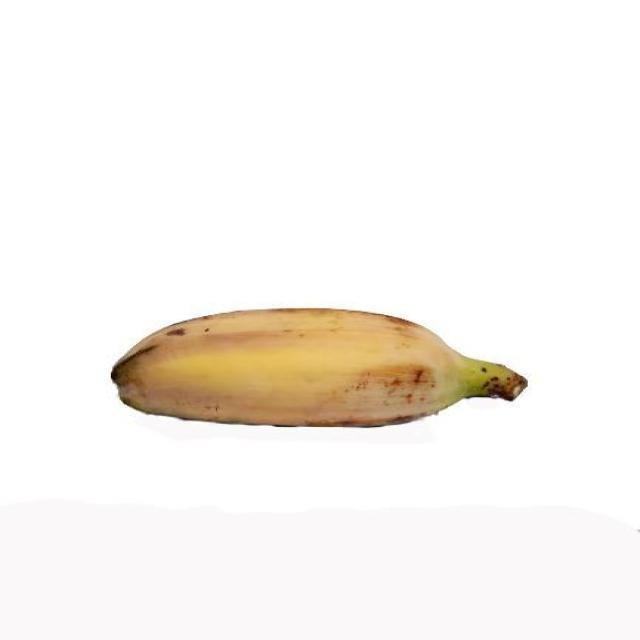Banana: (106, 301, 534, 441)
